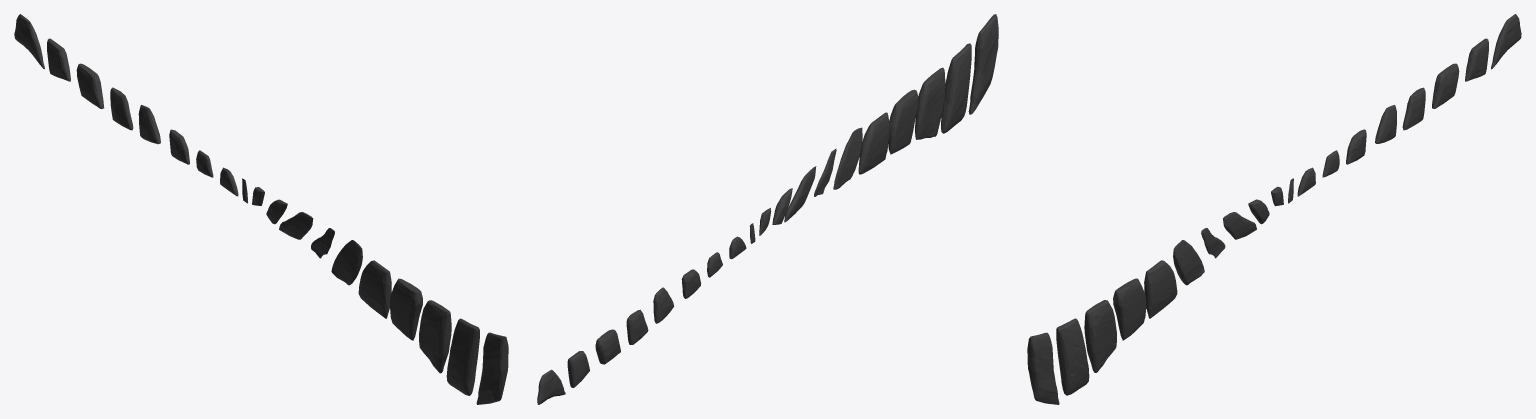
Rendered from m_interspinales.glb.
The picture shows the model from 3 angles, left to right: view 1: azimuth 30°, elevation 25°; view 2: azimuth 150°, elevation 25°; view 3: azimuth 330°, elevation 25°; orthographic projection. The views are drawn at different scales.
Visible parts, largest first — view 1: m_interspinales; view 2: m_interspinales; view 3: m_interspinales.
Boxes of the visible parts, box(x1,y1,x2,y2) form: m_interspinales: box(14, 14, 508, 404); m_interspinales: box(537, 14, 998, 404); m_interspinales: box(1027, 14, 1521, 404).
Size of the model in its own units: 0.000183 by 0.00114 by 0.0116.
1 material, 1 textured.
